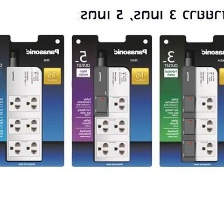book: (69, 33, 153, 168), (156, 30, 224, 172), (0, 32, 69, 170)
three_eye_plug: (2, 63, 45, 163), (90, 65, 131, 165), (179, 64, 220, 164)
